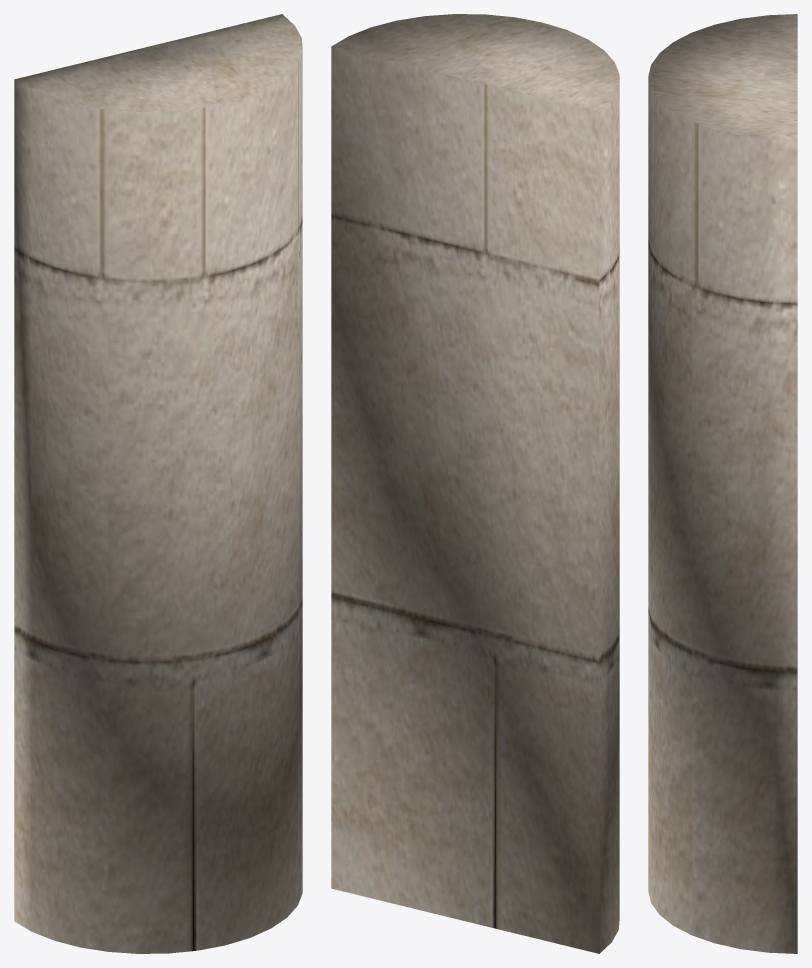
File: limestone halfpillar.glb
3 views of the same model, side by side, from view 1: azimuth 30°, elevation 25°; view 2: azimuth 150°, elevation 25°; view 3: azimuth 270°, elevation 25° (orthographic). The views are drawn at different scales.
Visible parts, largest first — view 1: Half Cylinder.002; view 2: Half Cylinder.002; view 3: Half Cylinder.002.
Boxes of the visible parts, <box> form: Half Cylinder.002: <box>14,14,302,953</box>; Half Cylinder.002: <box>331,14,619,953</box>; Half Cylinder.002: <box>648,14,797,953</box>.
Bounding box in the file's own units: 0.9144 × 2.74 × 0.4572.
1 material, 1 textured.
